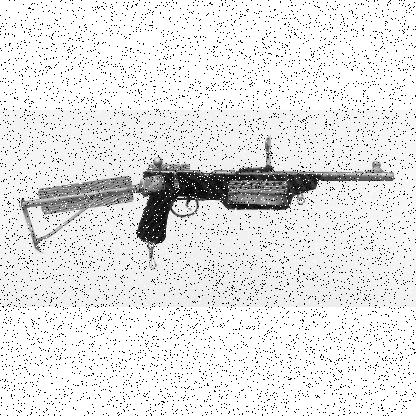gun: (19, 135, 394, 267)
